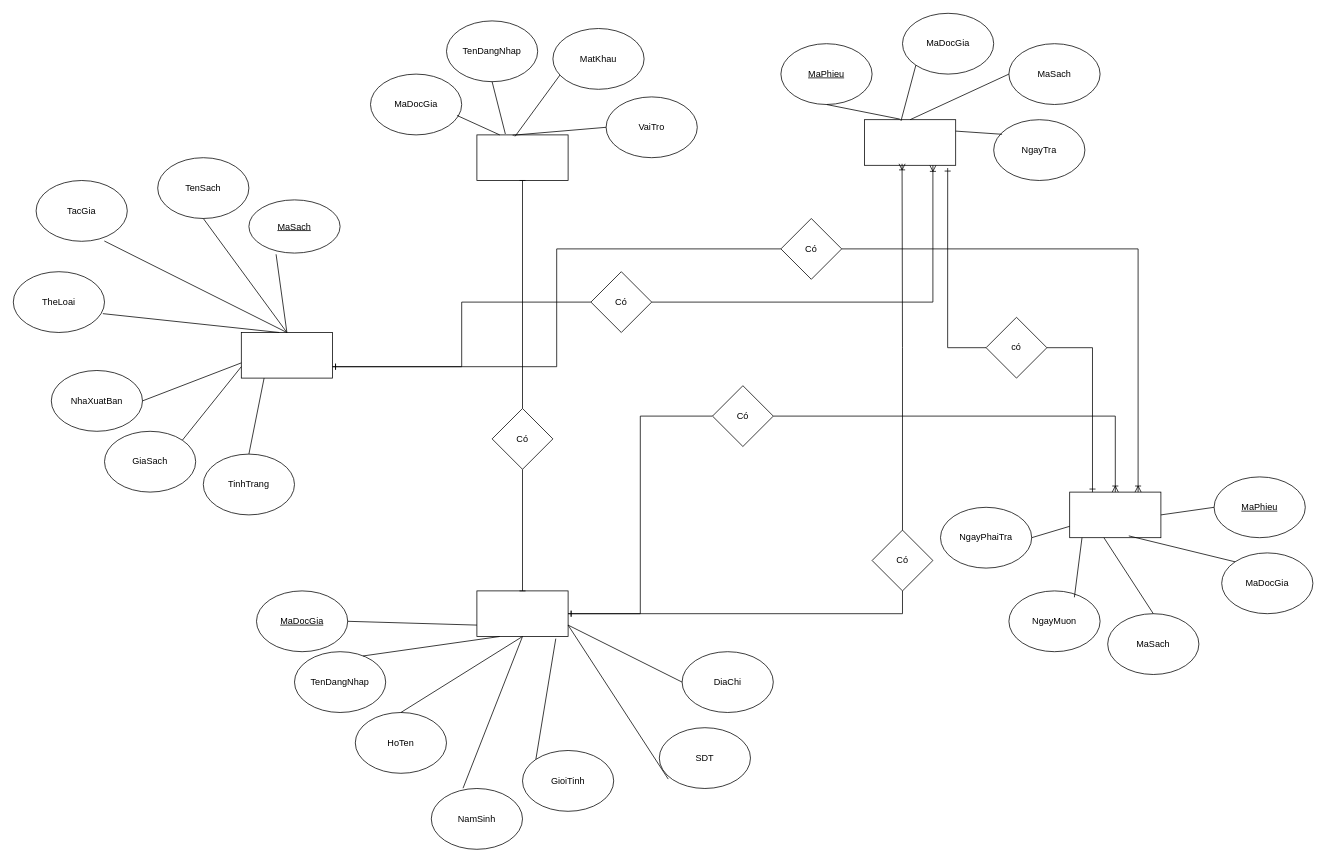
This 1326x863 diagram has some shape labels left out. Here are the shapes that lost their labels. From the top down, the centre of each, then its label:
At point 522,157: "TaiKhoan".
At point 910,142: "PhieuTra".
At point 286,355: "Sach".
At point 1115,514: "PhieuMuon".
At point 522,613: "DocGia".
